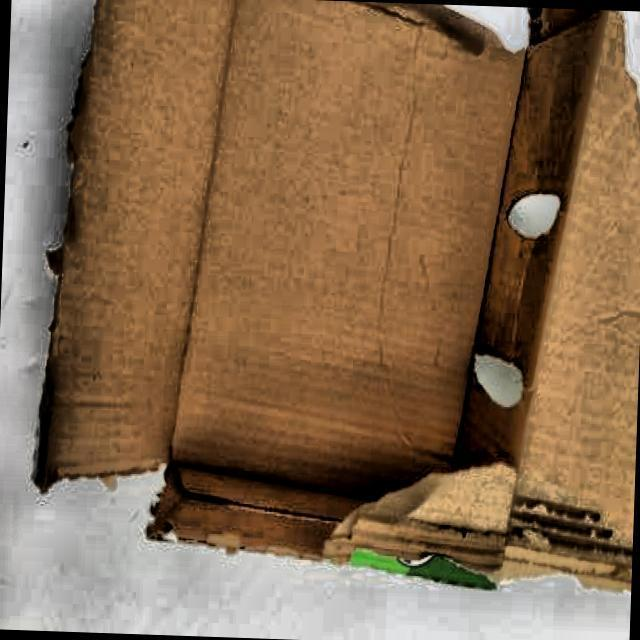cardboard: (28, 0, 640, 629)
